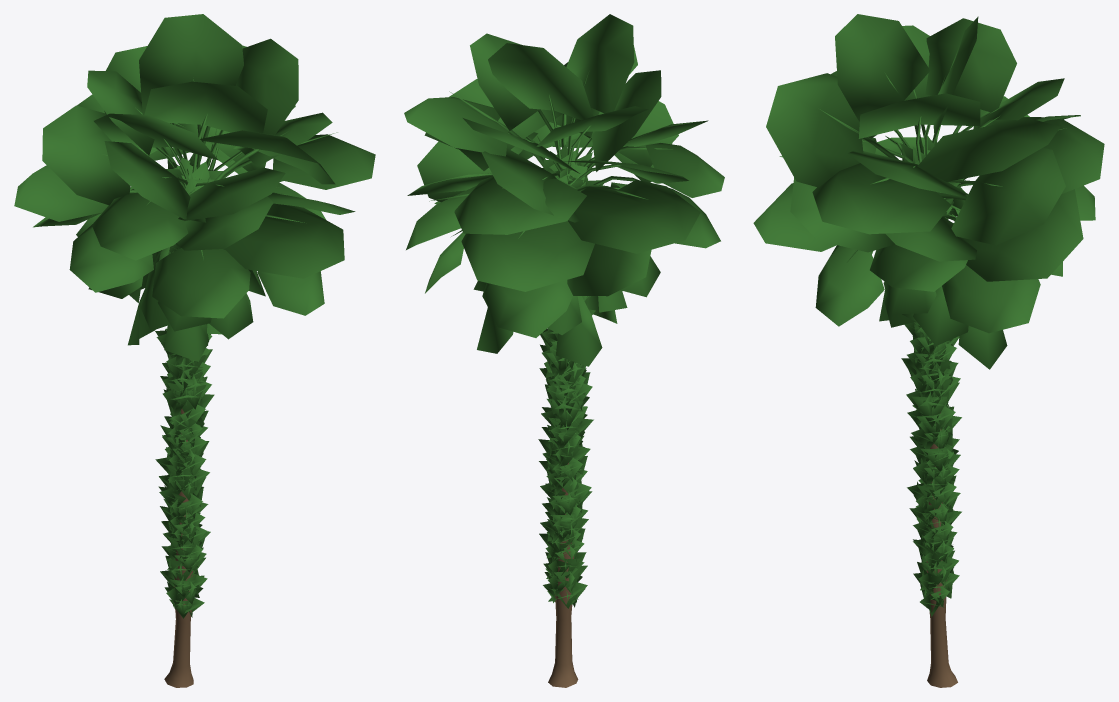
The model's file is Palm_Windmill_A.obj.
The picture shows the model from 3 angles, left to right: view 1: azimuth 30°, elevation 25°; view 2: azimuth 150°, elevation 25°; view 3: azimuth 270°, elevation 25°; orthographic projection. The views are drawn at different scales.
Parts seen in each view (by area): view 1: Leaves, Trunk; view 2: Leaves, Trunk; view 3: Leaves, Trunk.
Part boxes in pixels (left/top/right/bottom): Leaves: left=14, top=14, right=375, bottom=618; Trunk: left=164, top=409, right=193, bottom=687; Leaves: left=404, top=14, right=724, bottom=608; Trunk: left=548, top=463, right=578, bottom=687; Leaves: left=753, top=14, right=1104, bottom=616; Trunk: left=926, top=412, right=957, bottom=687.
Size of the model in its own units: 15.32 by 31.33 by 14.96.
